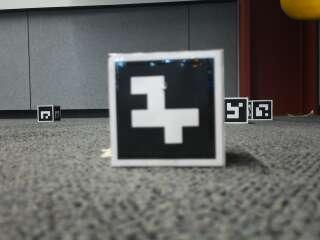lemon: (282, 0, 320, 20)
